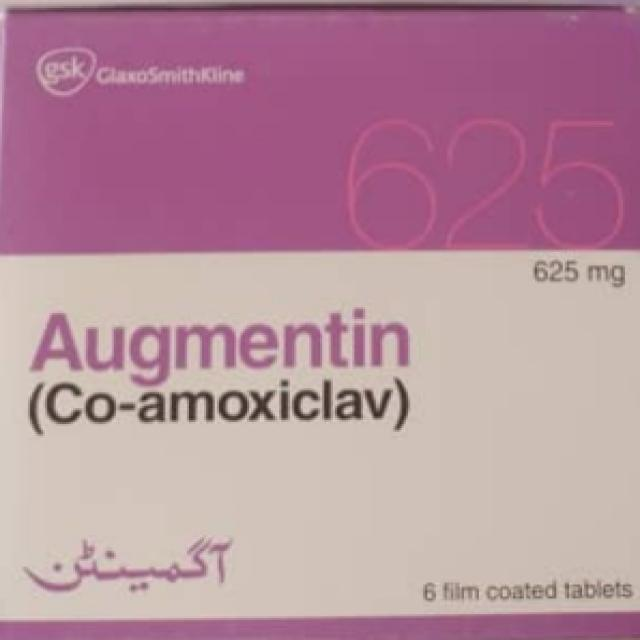drug-name: (31, 306, 410, 384)
